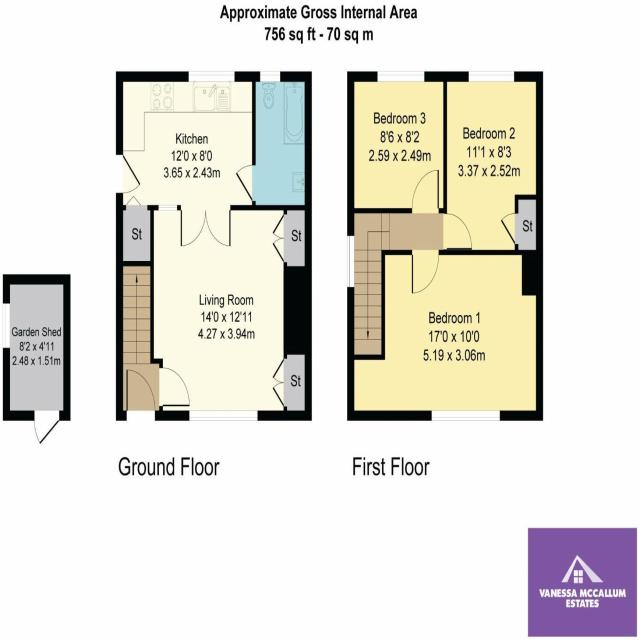DOOR: (126, 367, 156, 417), (444, 208, 474, 257), (159, 365, 191, 409), (412, 248, 440, 298), (411, 169, 439, 213), (35, 410, 63, 444), (118, 154, 140, 195), (238, 164, 254, 201), (502, 212, 517, 247)
DOUBLE DOOR: (180, 205, 232, 249)
ROOM: (115, 193, 313, 422), (347, 247, 544, 423), (115, 71, 257, 248), (443, 71, 545, 256), (348, 72, 450, 213)
WINDOW: (429, 409, 502, 424), (189, 408, 260, 422), (375, 70, 426, 84), (187, 69, 236, 81), (468, 70, 517, 81), (124, 409, 157, 422), (259, 71, 281, 81)
